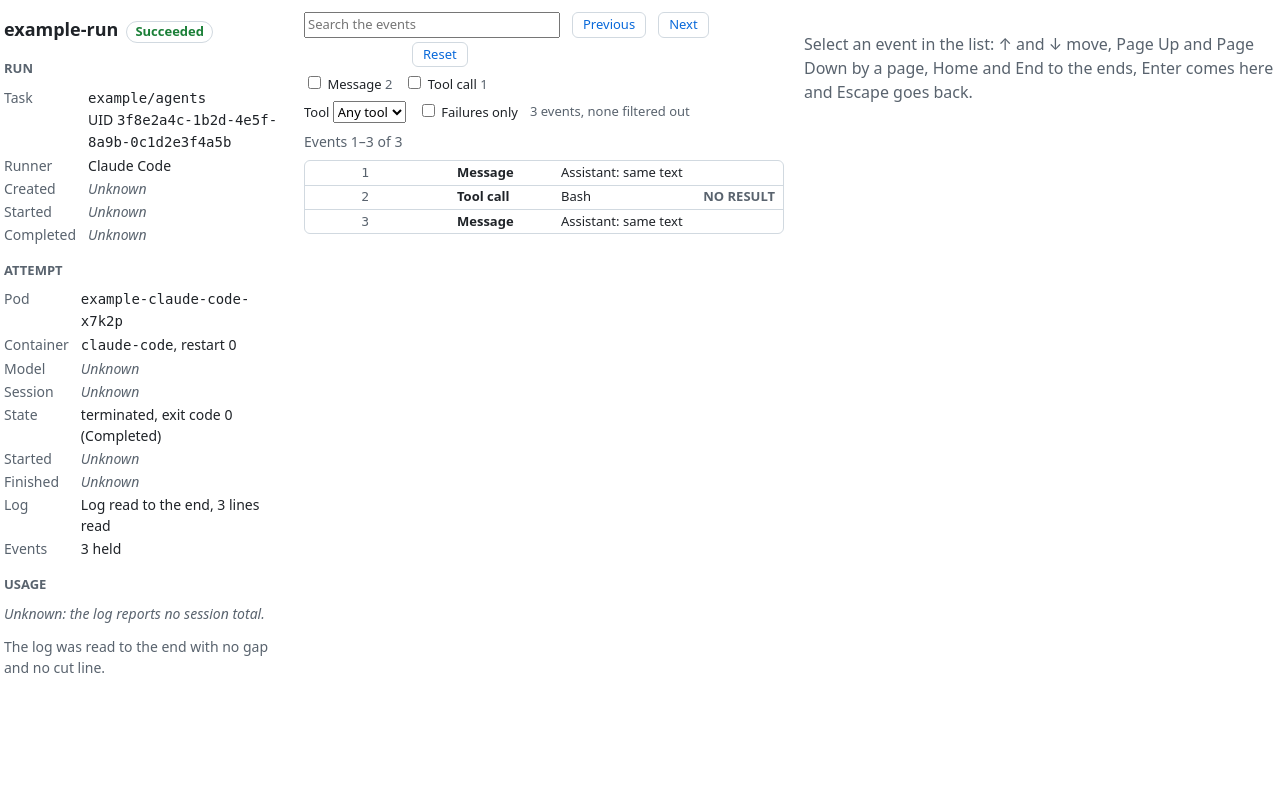
Test: Inspector diagnostics › steps through the matches of a search, two identical lines being two
The width and height of the screenshot is (1280, 812).
In the search field with placeholder "Search the events": point(432, 25) [304,12,560,38], type "SAME"
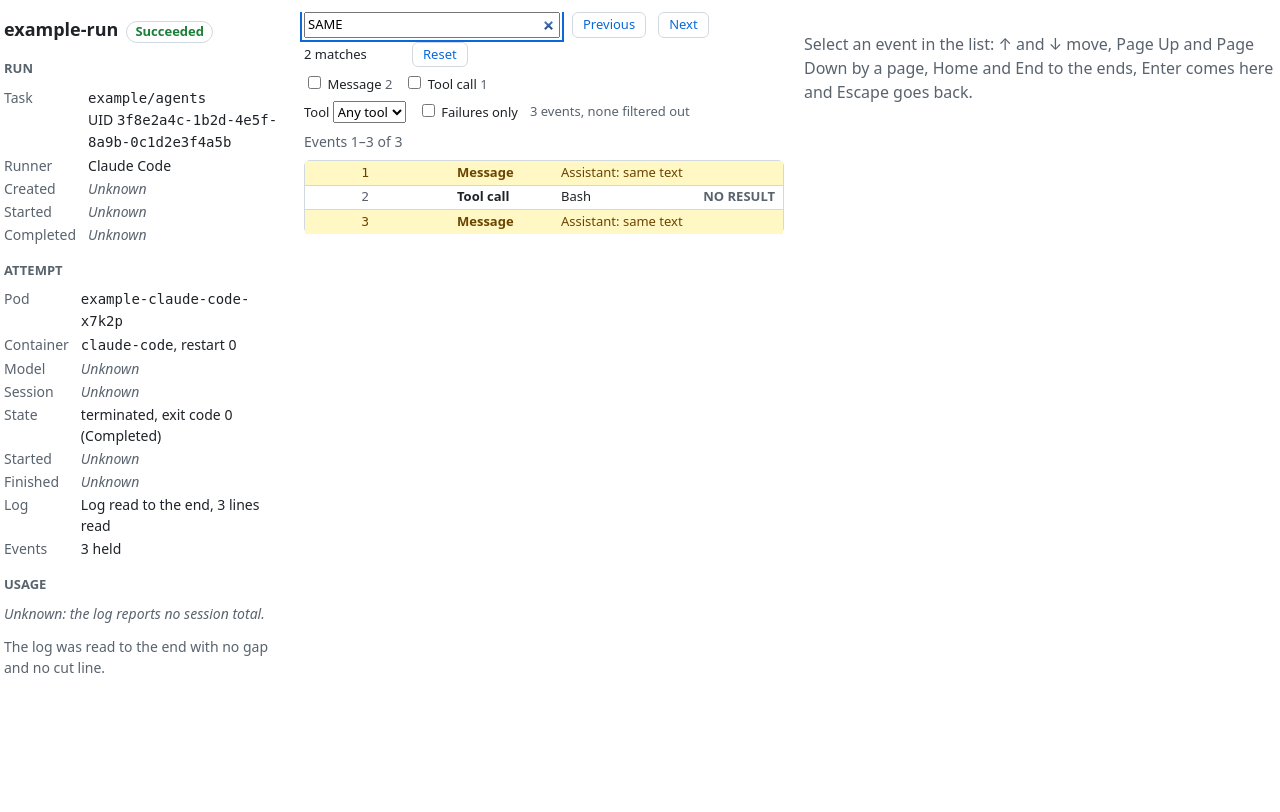
Press Enter
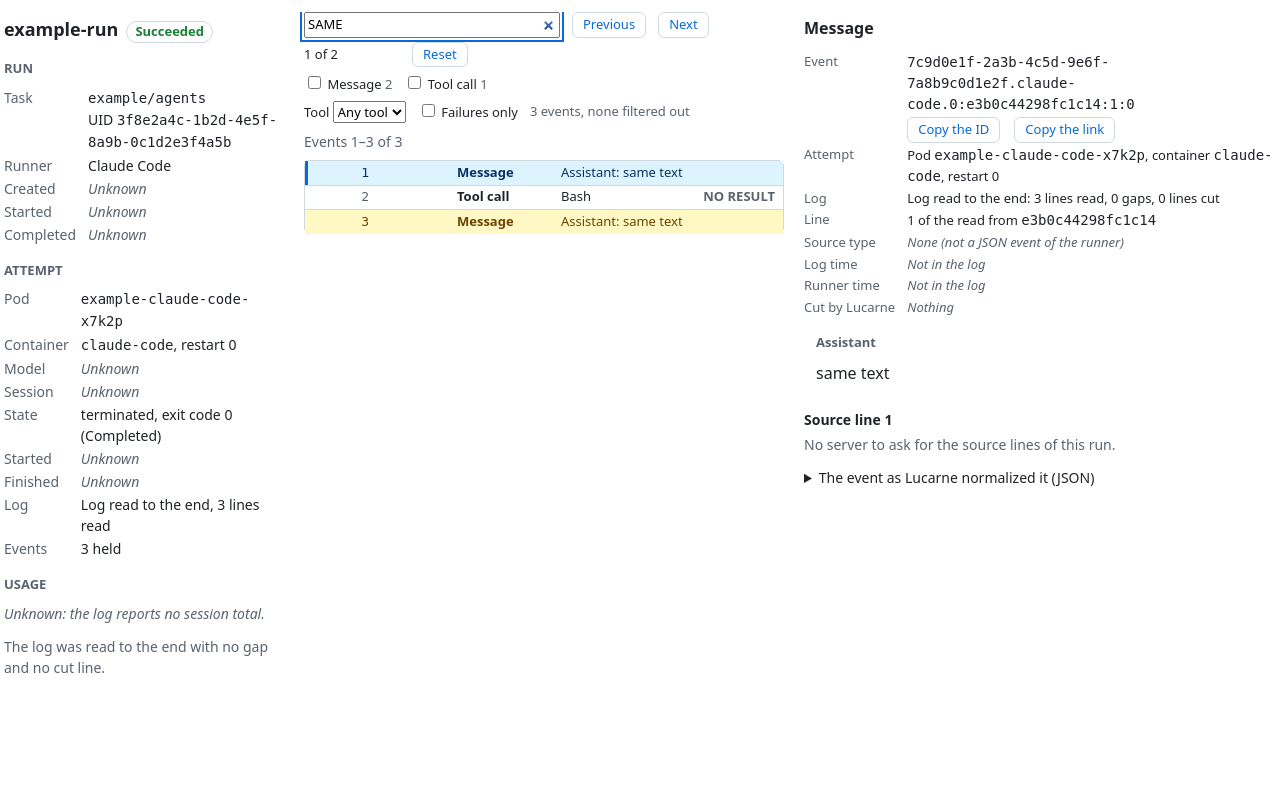
Press Enter
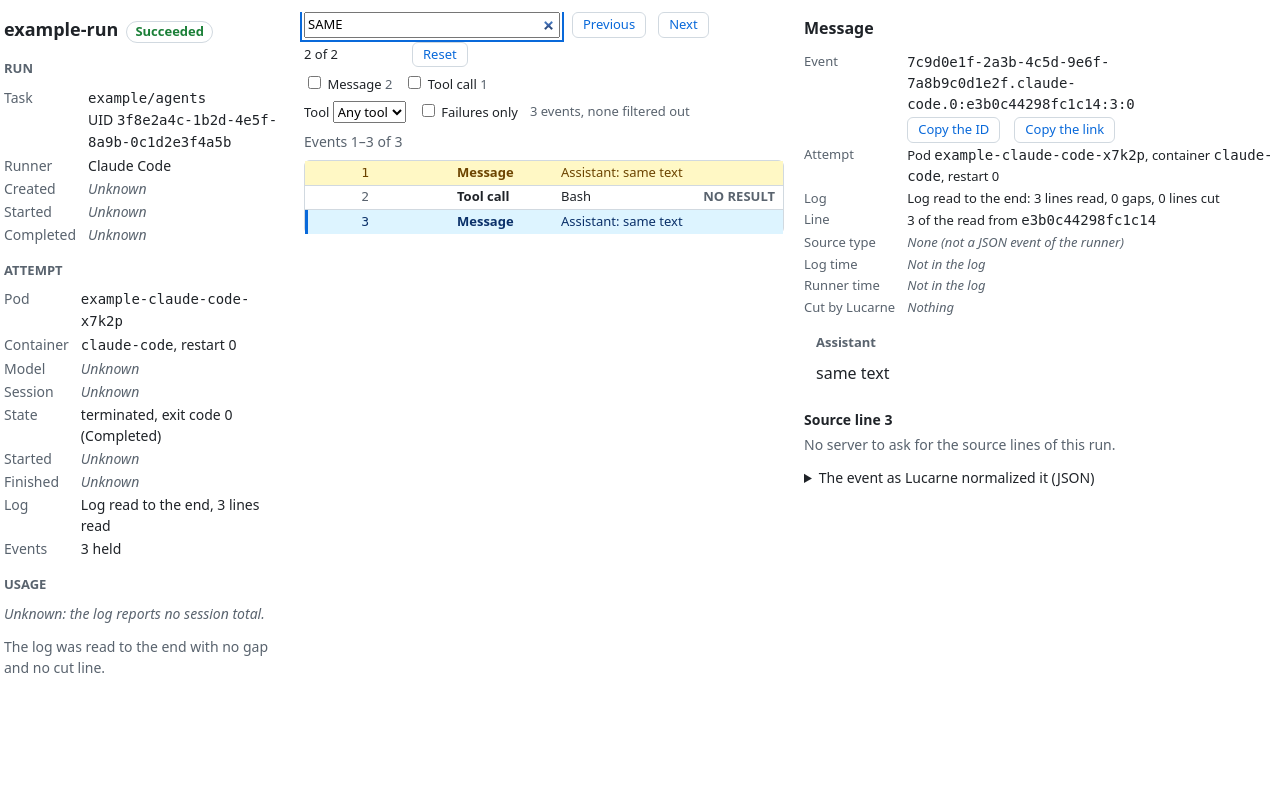
Result: the element with class "filters" shows "2 of 2" at [304,44,338,62]
